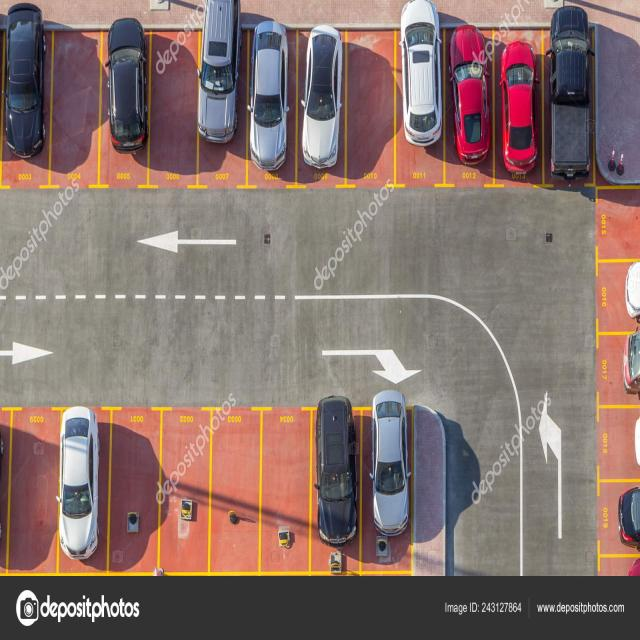libre: (111, 413, 311, 566), (14, 411, 59, 570), (55, 28, 99, 185), (156, 22, 197, 186), (356, 36, 392, 174)
ocupado: (400, 0, 599, 203), (199, 0, 350, 197), (311, 393, 415, 574), (1, 0, 49, 178), (102, 14, 151, 186), (65, 402, 105, 568), (602, 264, 640, 416), (603, 418, 640, 558)
